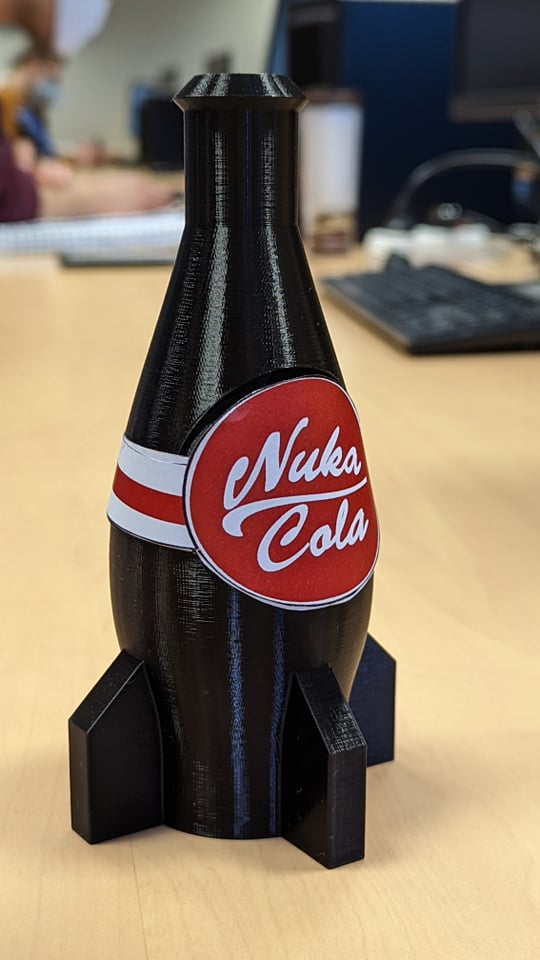bottle: (55, 50, 416, 895)
